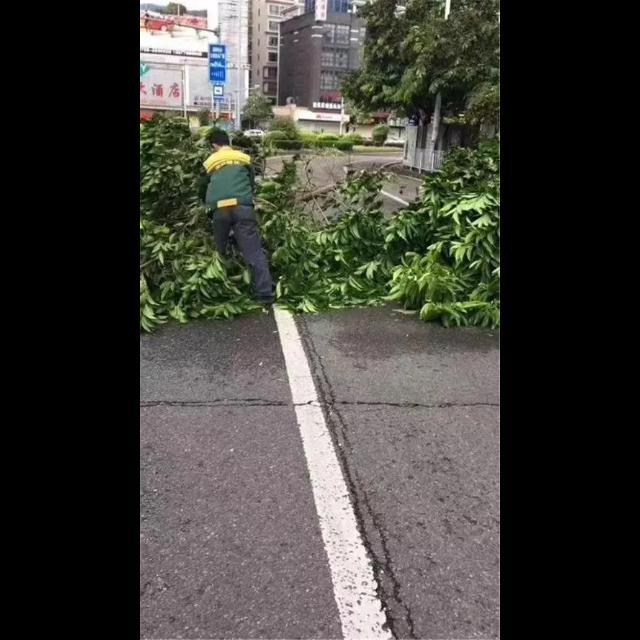fallen_tree: (140, 112, 498, 344)
